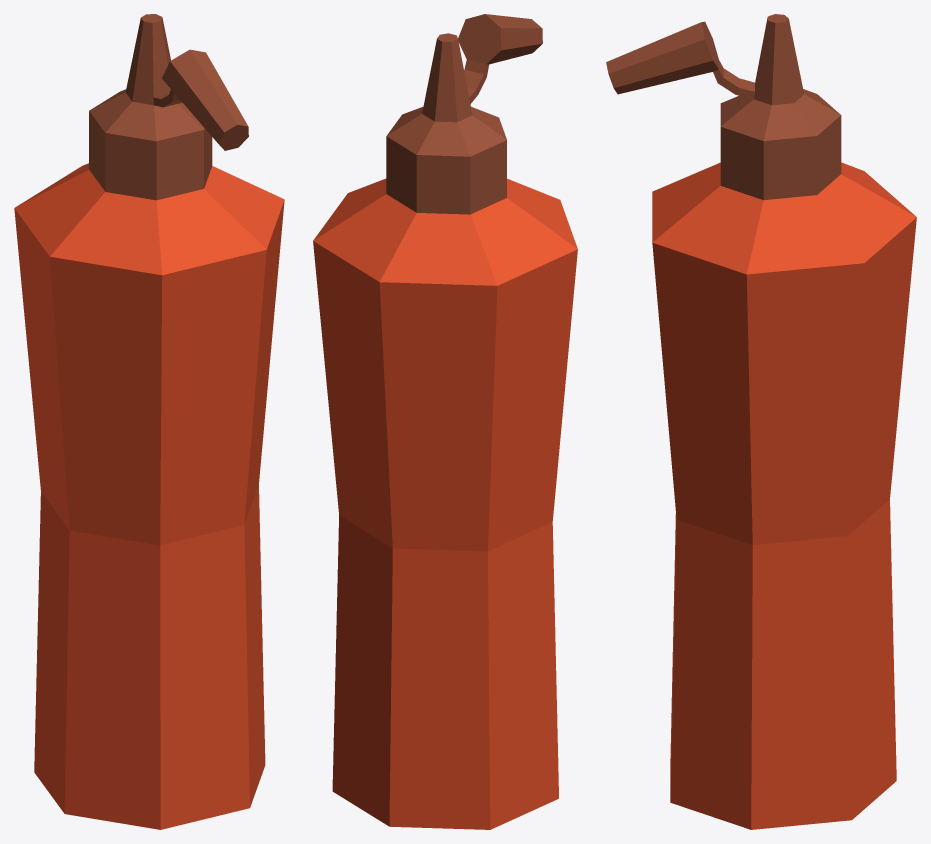
The model's file is KetchupBottle.glb.
The picture shows the model from 3 angles, left to right: view 1: azimuth 30°, elevation 25°; view 2: azimuth 150°, elevation 25°; view 3: azimuth 270°, elevation 25°; orthographic projection. The views are drawn at different scales.
Visible parts, largest first — view 1: KetchupBottle; view 2: KetchupBottle; view 3: KetchupBottle.
Part boxes in pixels (x1,y1,x2,y2): KetchupBottle: (14,14,284,829); KetchupBottle: (313,14,577,829); KetchupBottle: (606,14,916,829).
Size of the model in its own units: 0.0761 by 0.2357 by 0.0871.
